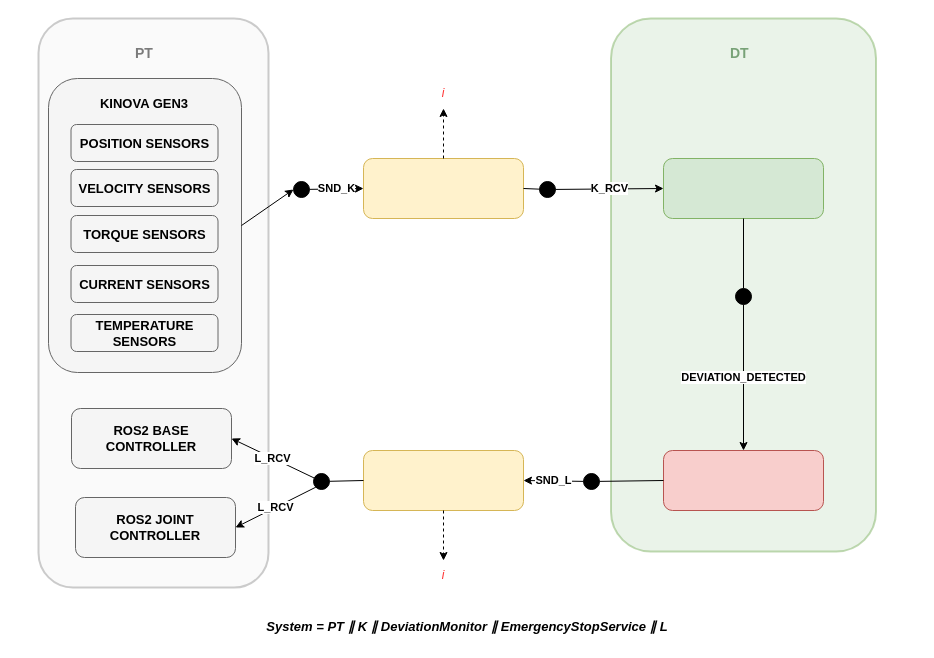
The diagram is 934 pixels wide and 658 high, and some of its shapes have lost their labels. Here are the shapes that lost their labels. From the top down, the centre of each, then its label:
At point (443, 188): "CHANNEL K".
At point (743, 188): "DEVIATION MONITOR".
At point (443, 480): "CHANNEL L".
At point (743, 480): "EMERGENCY STOP SERVICE".
